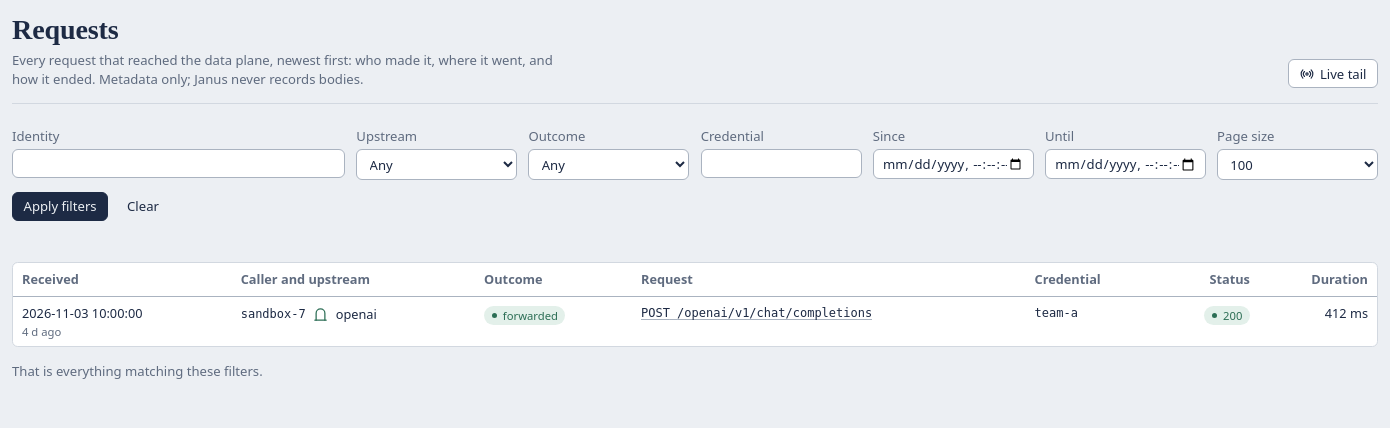
Scenario: Requests view › stops the tail and explains it on a disabled event, without reconnecting
This screenshot has width=1390, height=428.
Expected: the table named "Request log" is shown, [13,263,1377,346]
What coordinates should you click on to do the following:
click the button "Live tail"
I would click on:
 (1333, 74)
Its box is [1288,59,1378,88].
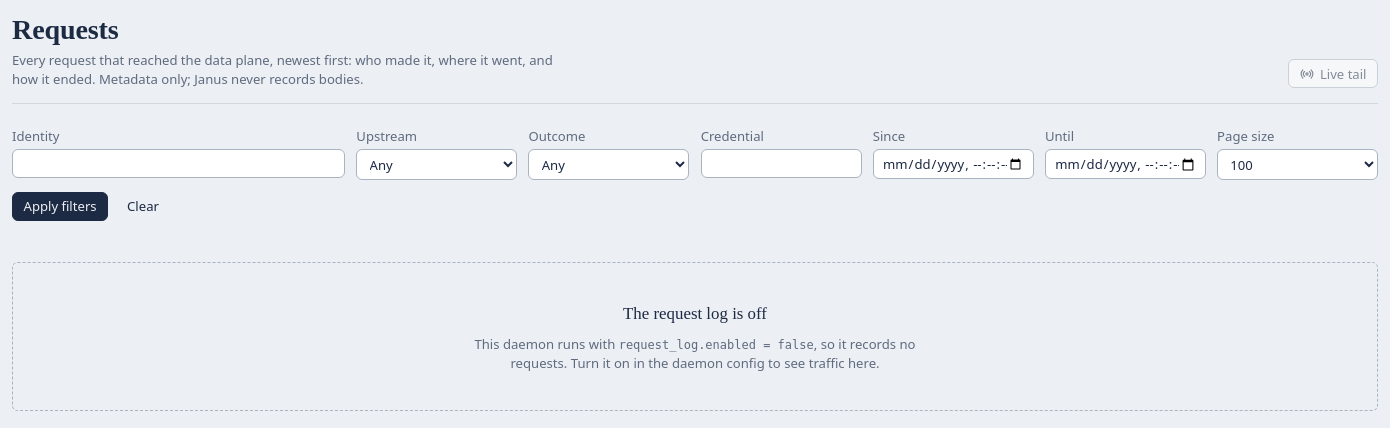
Expected: the text "The request log is off" is shown, [623,304,767,323]
Expected: the button "Live tail" is disabled, [1288,59,1378,88]
